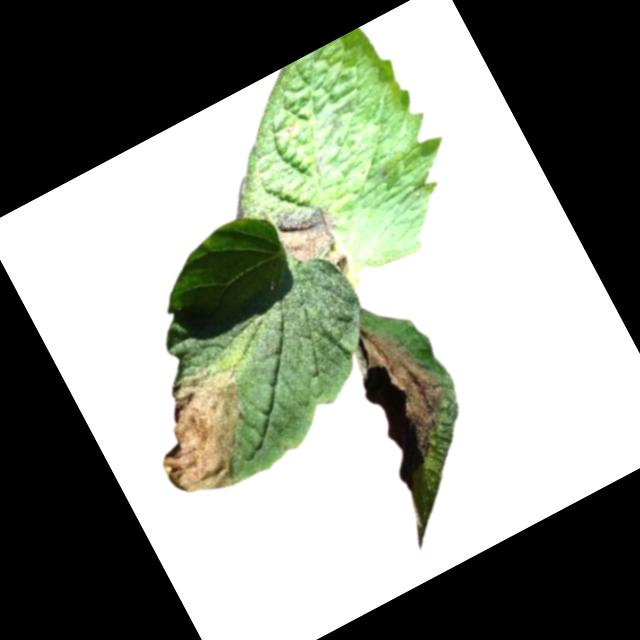Late_blight: (128, 354, 284, 513), (353, 308, 464, 459), (268, 193, 349, 272), (322, 247, 357, 283)
